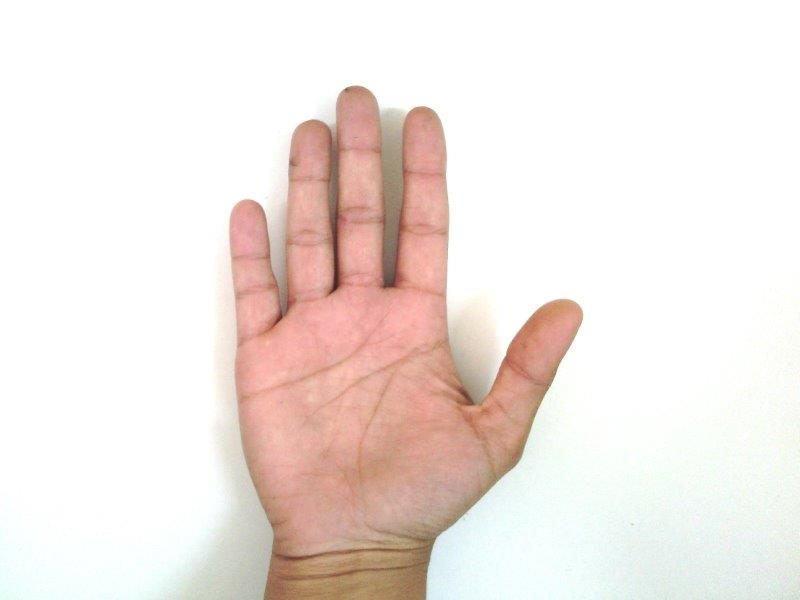hand: (228, 85, 584, 552)
